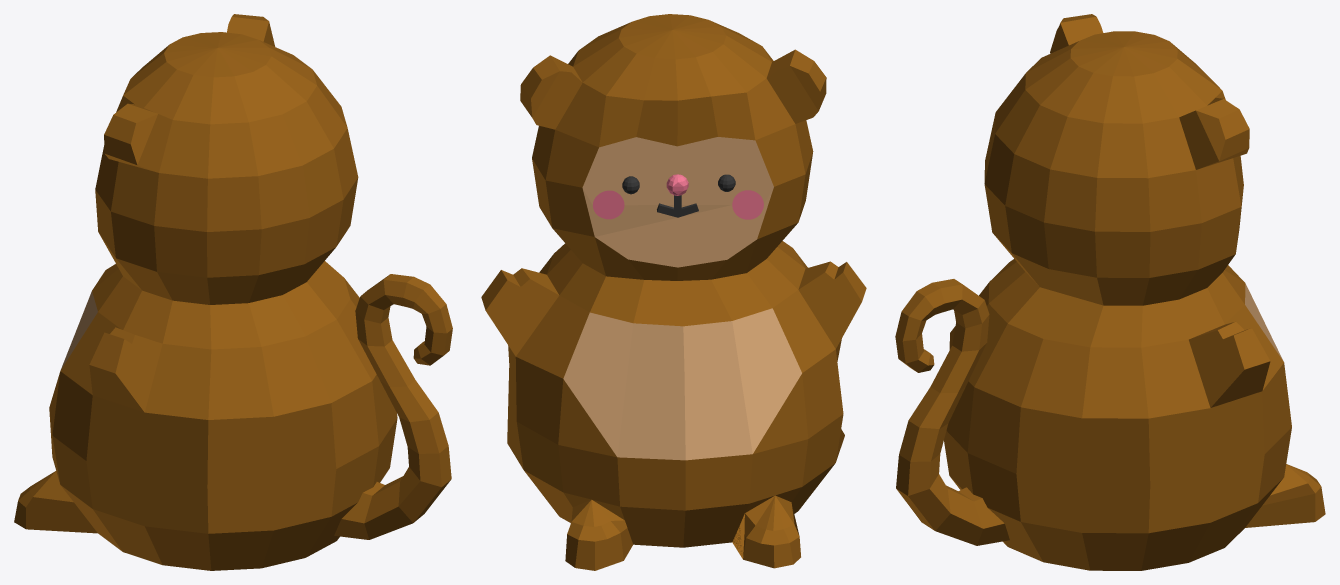
File: monkey.fbx
3 views of the same model, side by side, from view 1: azimuth 30°, elevation 25°; view 2: azimuth 150°, elevation 25°; view 3: azimuth 270°, elevation 25° (orthographic).
Parts seen in each view (by area): view 1: Monkey; view 2: Monkey; view 3: Monkey.
Part boxes in pixels (x1,y1,x2,y2): Monkey: (14, 14, 452, 570); Monkey: (481, 14, 866, 570); Monkey: (895, 14, 1325, 570).
Size of the model in its own units: 256 by 365 by 303.
